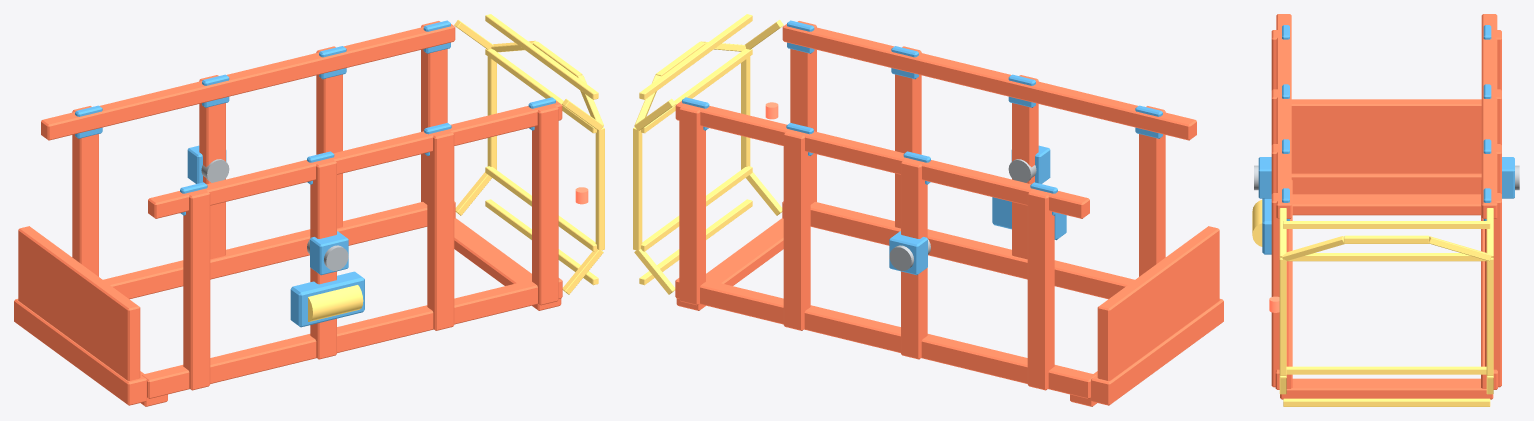
Rendered from mobile-tipper-cradle-v4-high.glb.
3 renders of one model, left to right at view 1: azimuth 30°, elevation 25°; view 2: azimuth 150°, elevation 25°; view 3: azimuth 270°, elevation 25°, orthographic. The views are drawn at different scales.
Visible parts, largest first — view 1: mobile-tipper-cradle-v4-high.glb-v5_tilter_red, mobile-tipper-cradle-v4-high.glb-v5_tilter_yellow, mobile-tipper-cradle-v4-high.glb-v5_tilter_blue, mobile-tipper-cradle-v4-high.glb-v5_bulk_silver; view 2: mobile-tipper-cradle-v4-high.glb-v5_tilter_red, mobile-tipper-cradle-v4-high.glb-v5_tilter_yellow, mobile-tipper-cradle-v4-high.glb-v5_tilter_blue, mobile-tipper-cradle-v4-high.glb-v5_bulk_silver; view 3: mobile-tipper-cradle-v4-high.glb-v5_tilter_red, mobile-tipper-cradle-v4-high.glb-v5_tilter_yellow, mobile-tipper-cradle-v4-high.glb-v5_tilter_blue, mobile-tipper-cradle-v4-high.glb-v5_bulk_silver.
Boxes of the visible parts, x1=… form: mobile-tipper-cradle-v4-high.glb-v5_tilter_red: x1=14, y1=21, x2=562, y2=406; mobile-tipper-cradle-v4-high.glb-v5_tilter_yellow: x1=308, y1=14, x2=604, y2=321; mobile-tipper-cradle-v4-high.glb-v5_tilter_blue: x1=75, y1=20, x2=555, y2=327; mobile-tipper-cradle-v4-high.glb-v5_bulk_silver: x1=201, y1=159, x2=348, y2=270; mobile-tipper-cradle-v4-high.glb-v5_tilter_red: x1=675, y1=21, x2=1223, y2=406; mobile-tipper-cradle-v4-high.glb-v5_tilter_yellow: x1=633, y1=14, x2=783, y2=294; mobile-tipper-cradle-v4-high.glb-v5_tilter_blue: x1=682, y1=20, x2=1162, y2=275; mobile-tipper-cradle-v4-high.glb-v5_bulk_silver: x1=889, y1=159, x2=1036, y2=270; mobile-tipper-cradle-v4-high.glb-v5_tilter_red: x1=1271, y1=14, x2=1501, y2=399; mobile-tipper-cradle-v4-high.glb-v5_tilter_yellow: x1=1252, y1=200, x2=1493, y2=406; mobile-tipper-cradle-v4-high.glb-v5_tilter_blue: x1=1258, y1=25, x2=1514, y2=254; mobile-tipper-cradle-v4-high.glb-v5_bulk_silver: x1=1254, y1=165, x2=1519, y2=190.
Size of the model in its own units: 7.03 by 2.84 by 3.46.
